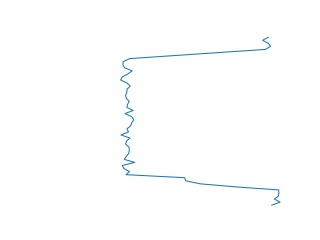distributaryChannelFill: (115, 36, 285, 206)
